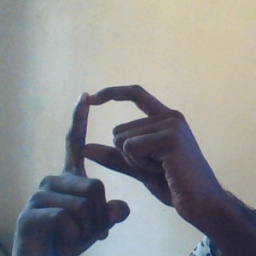D: (52, 80, 187, 209)
